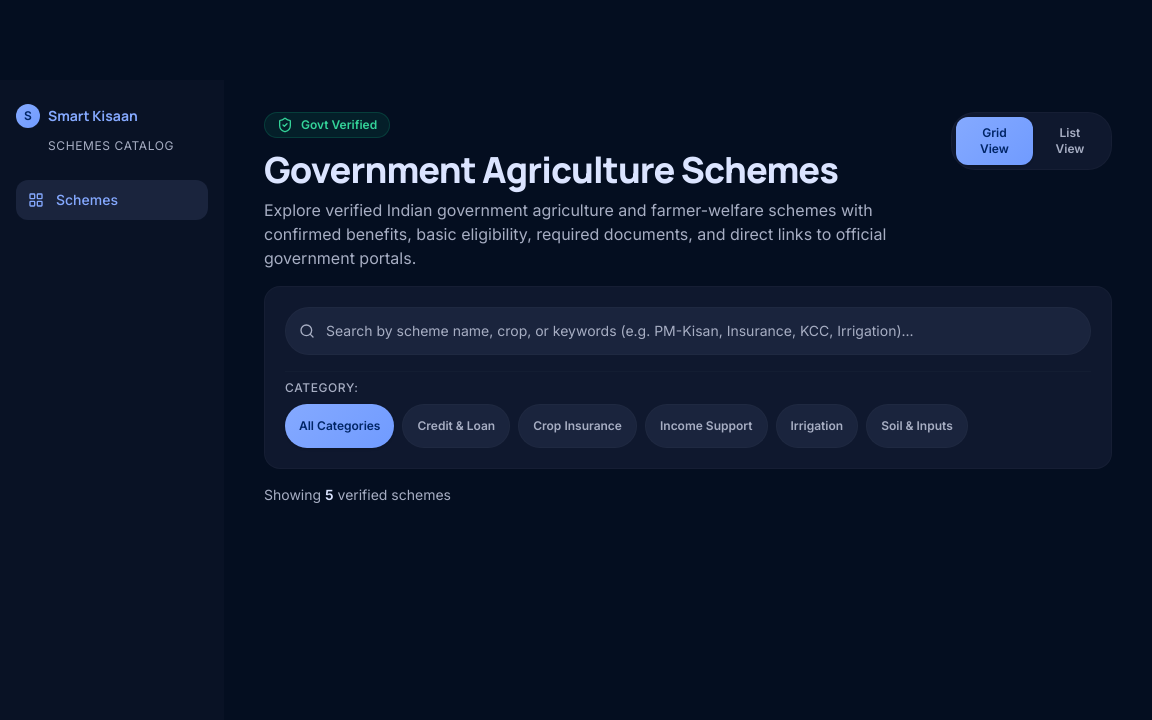
Test: Phase 1 — Feature 3: Government Agriculture Schemes › filters schemes by search query in English and Hindi
This screenshot has width=1152, height=720.
Replace the text in the search field named "Search Schemes" with "Insurance" at (688,331), box [285,307,1091,355]
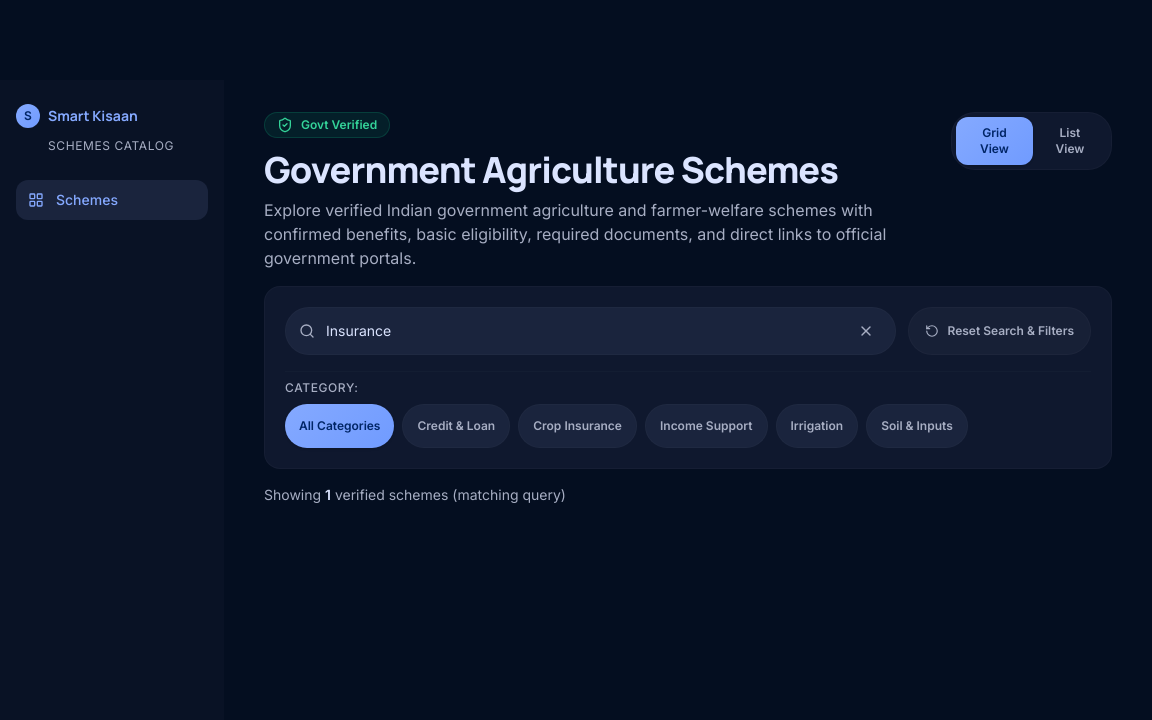
Replace the text in the search field named "Search Schemes" with "सिंचाई" at (591,331), box [285,307,896,355]
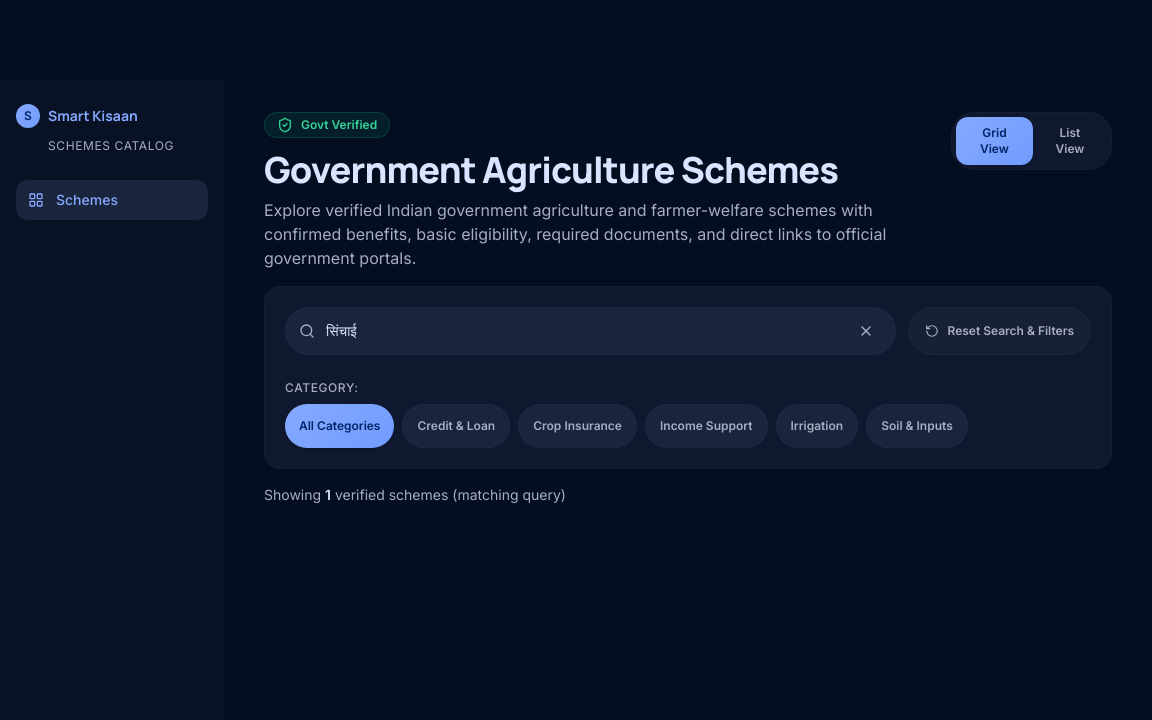
Expected: the heading "PM-KISAN" is not shown
Click the button named "Clear Search" at (866,331), box [844,309,888,353]
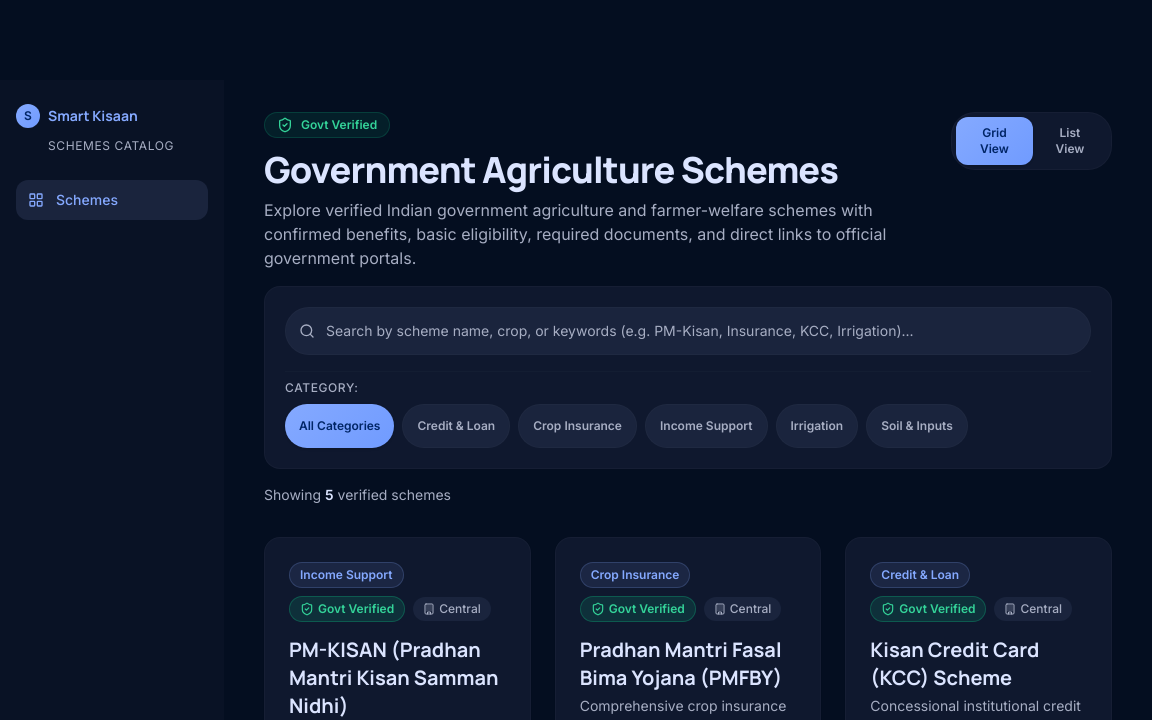
Expected: the heading "PM-KISAN (Pradhan Mantri Kisan Samman Nidhi)" is shown, [289,636,506,719]
